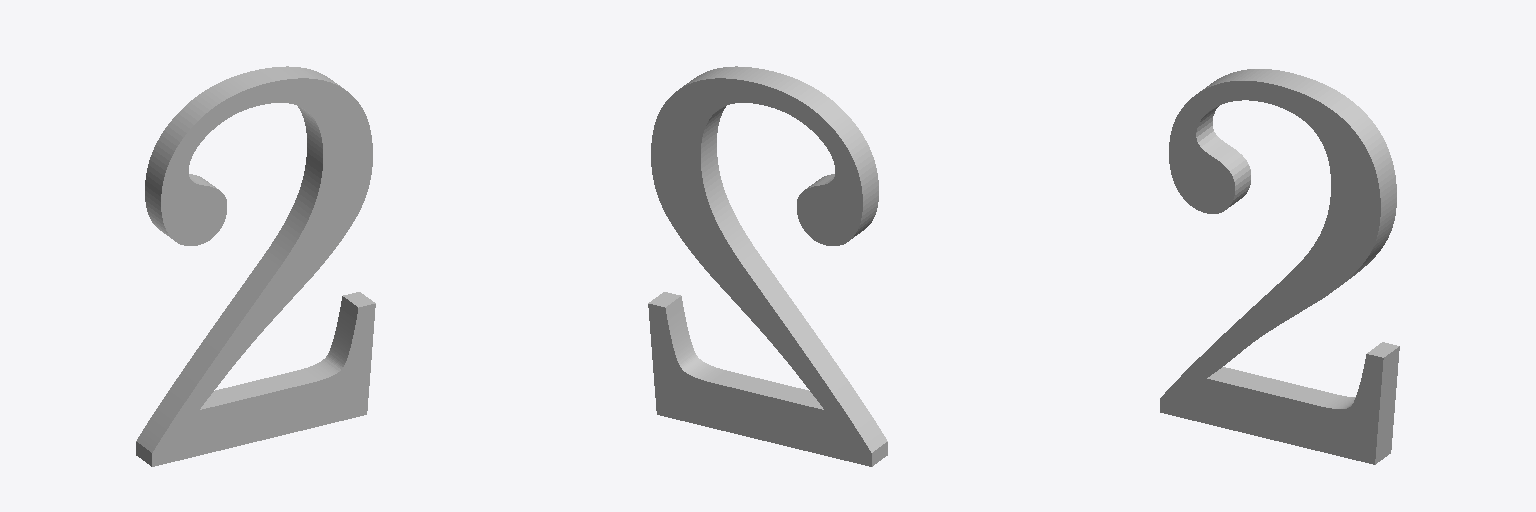
The picture shows the model from 3 angles: view 1: azimuth 30°, elevation 25°; view 2: azimuth 150°, elevation 25°; view 3: azimuth 330°, elevation 25°; orthographic projection.
Visible parts, largest first — view 1: mmGroup0; view 2: mmGroup0; view 3: mmGroup0.
Boxes of the visible parts, x1=… form: mmGroup0: x1=136, y1=66, x2=375, y2=466; mmGroup0: x1=648, y1=66, x2=887, y2=466; mmGroup0: x1=1160, y1=69, x2=1399, y2=464.
Bounding box in the file's own units: 4.77 × 7.26 × 0.6.